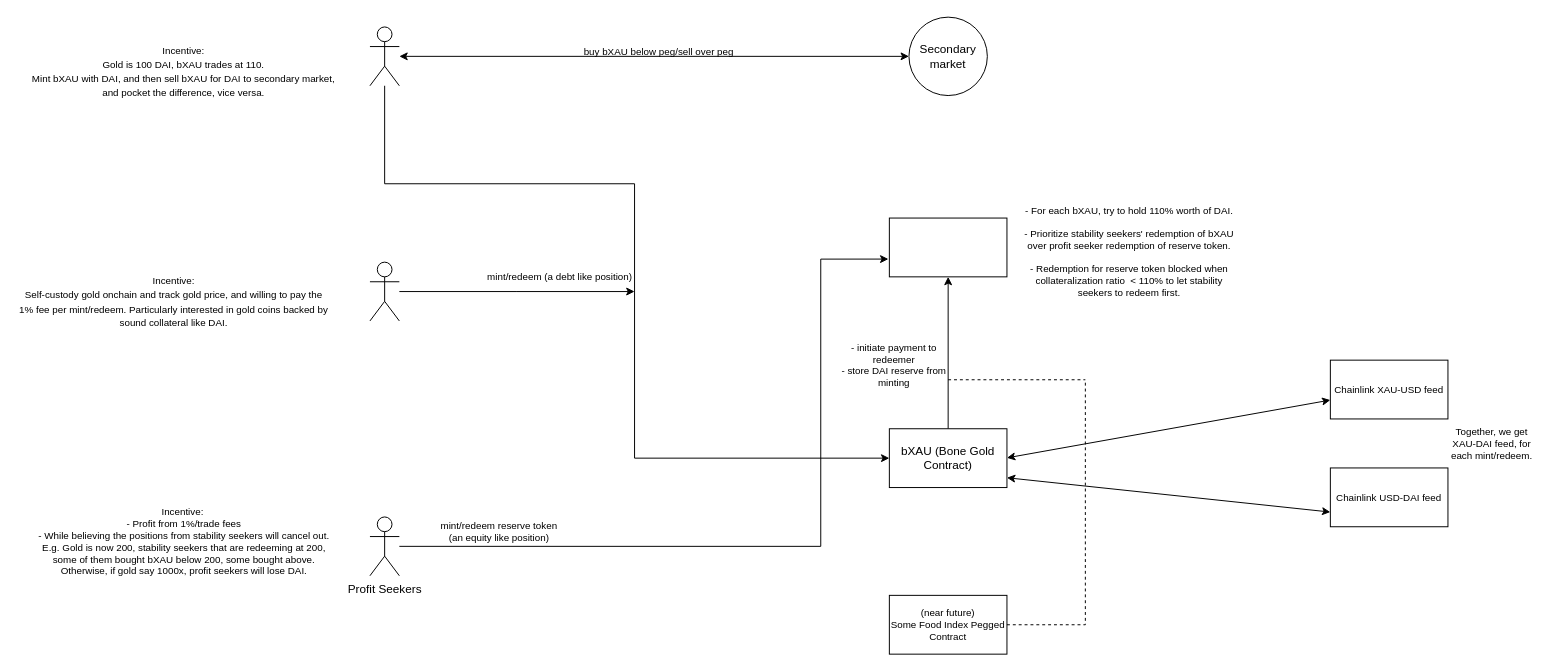
Some shapes in this 1552 by 671 pixel diagram are drawn without their labels. Each missing label, with the centre of its shape:
"Arbitragers" belongs at (x=384, y=56).
"Reserve Contract" belongs at (x=947, y=247).
"Stability Seekers" belongs at (x=384, y=291).
